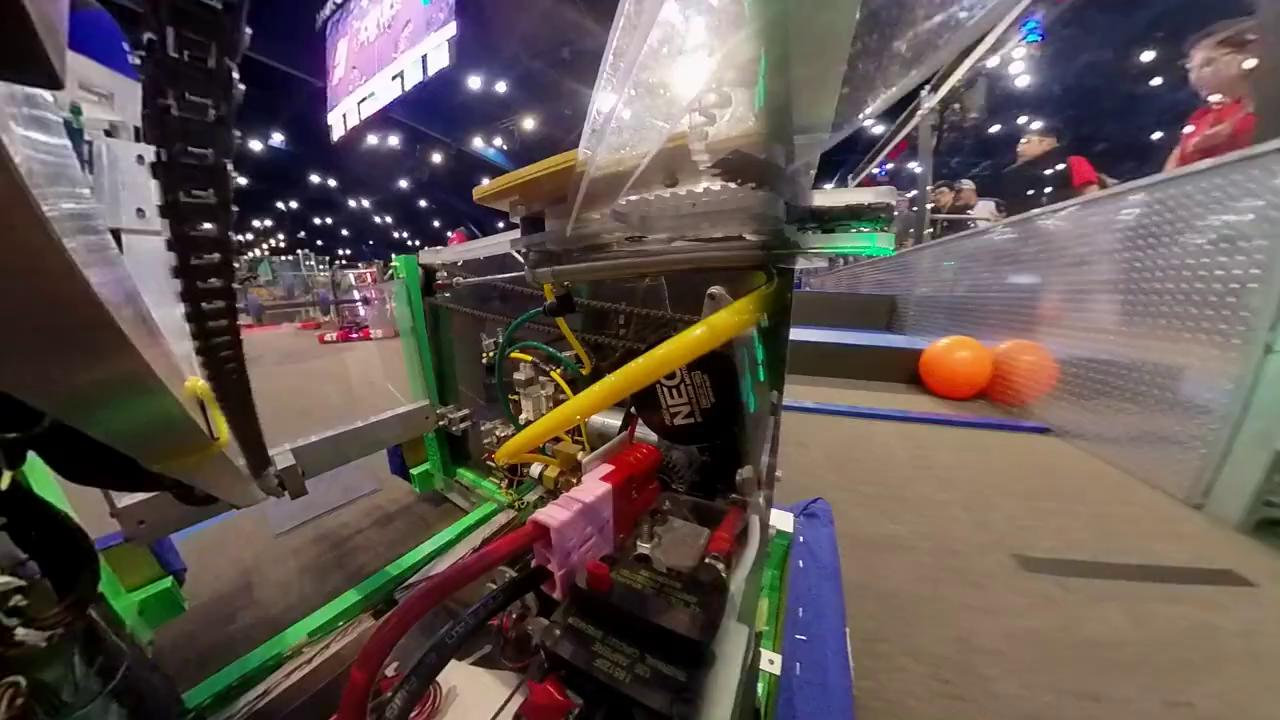robot: (317, 267, 400, 346), (297, 316, 323, 332)
